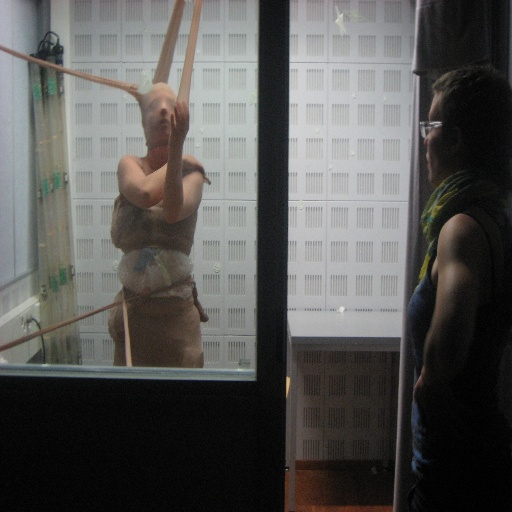hand: (169, 99, 189, 149), (182, 153, 210, 185), (411, 376, 438, 407)
